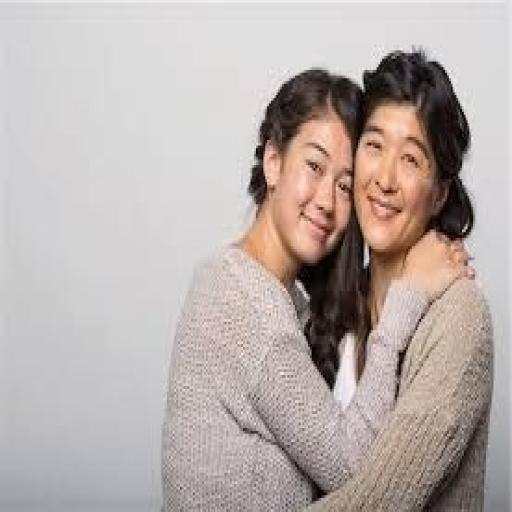hugging: (158, 50, 494, 510)
